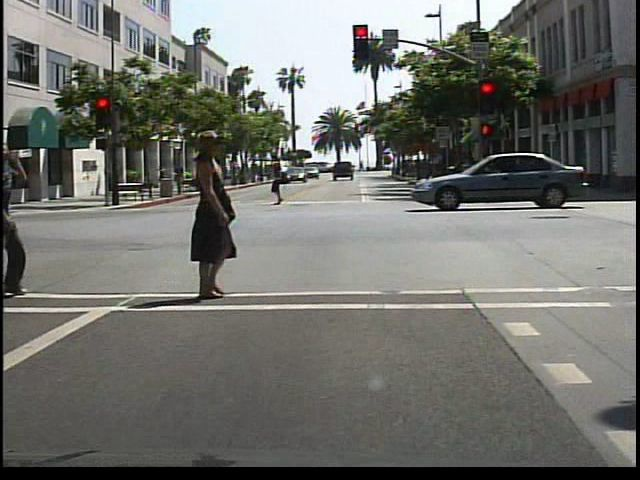person: (179, 133, 270, 303), (1, 143, 27, 303), (268, 157, 296, 209), (172, 161, 191, 199)
